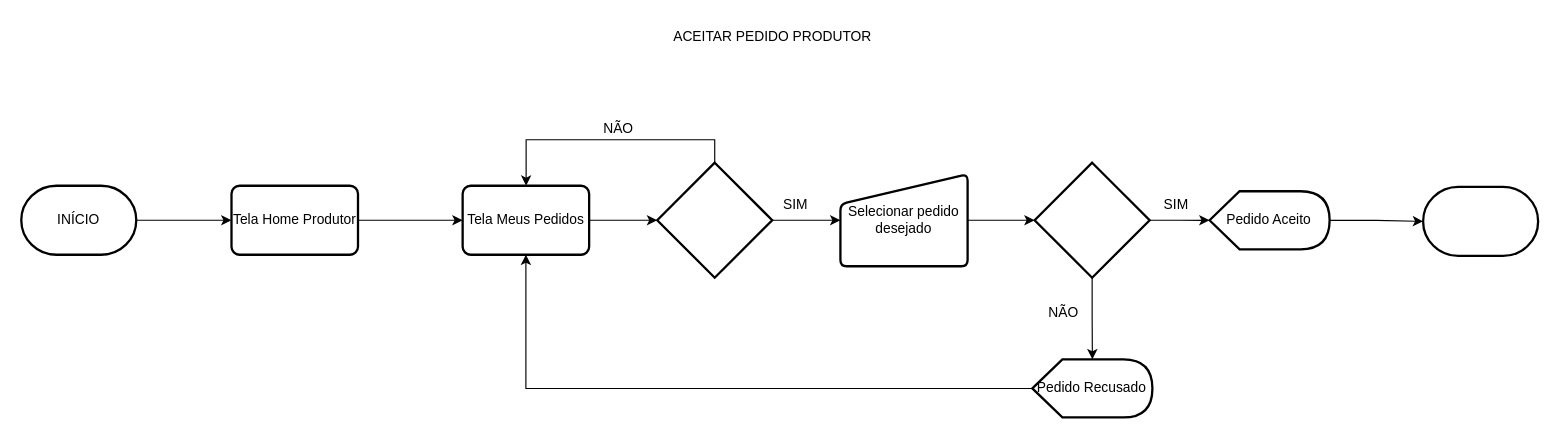
Image size: 1558x438. Some labels were removed from this diagram. The centre of each missing label's shape, as x and y in pixels:
Aceitar pedido?: point 1091,219
Existem pedidos pendentes?: point 714,219
FIM: point 1480,220
